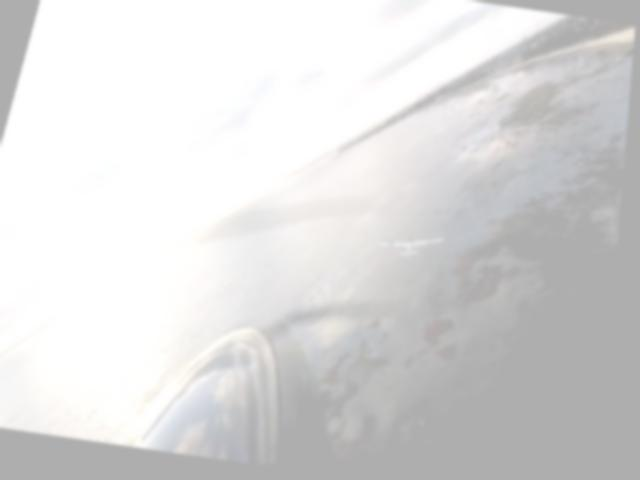uav: (375, 223, 455, 274)
